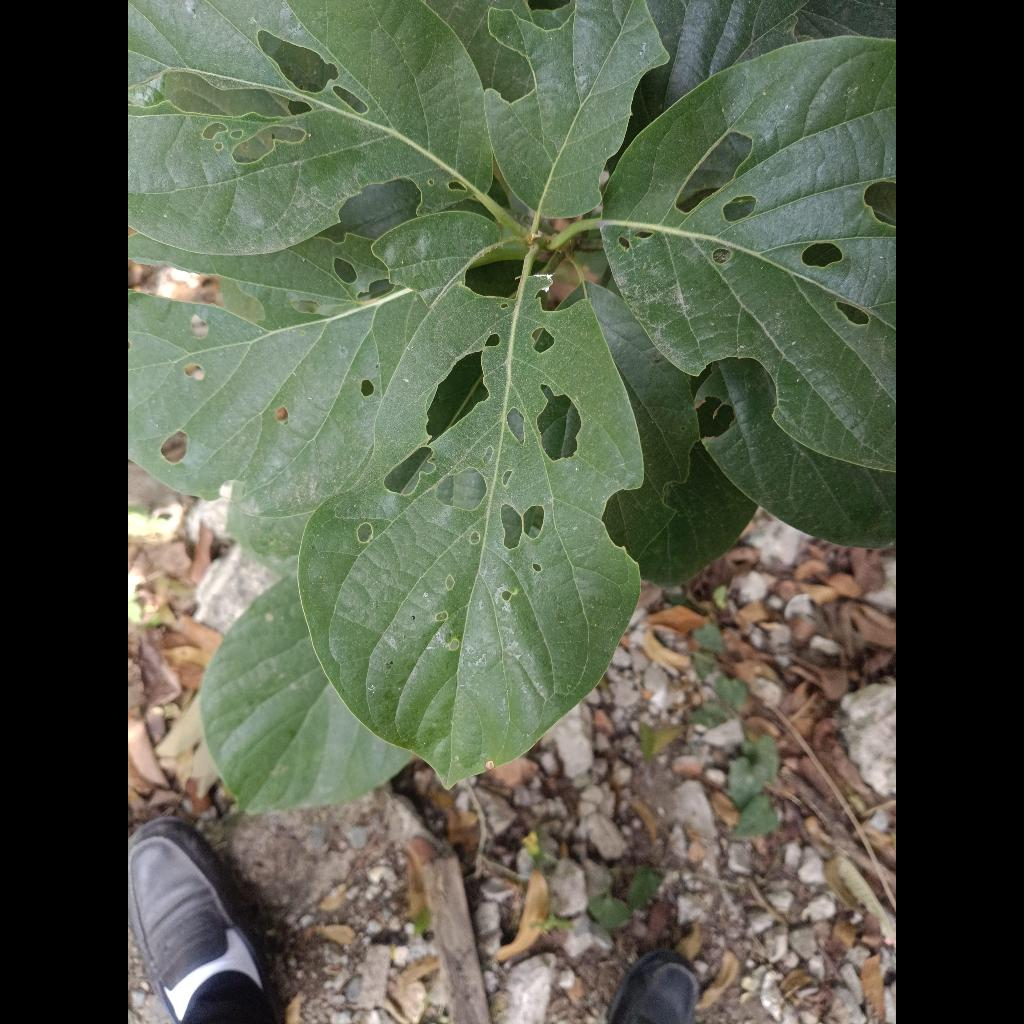plaga: (299, 255, 642, 783), (601, 36, 896, 471), (128, 0, 492, 255), (484, 0, 667, 221)
